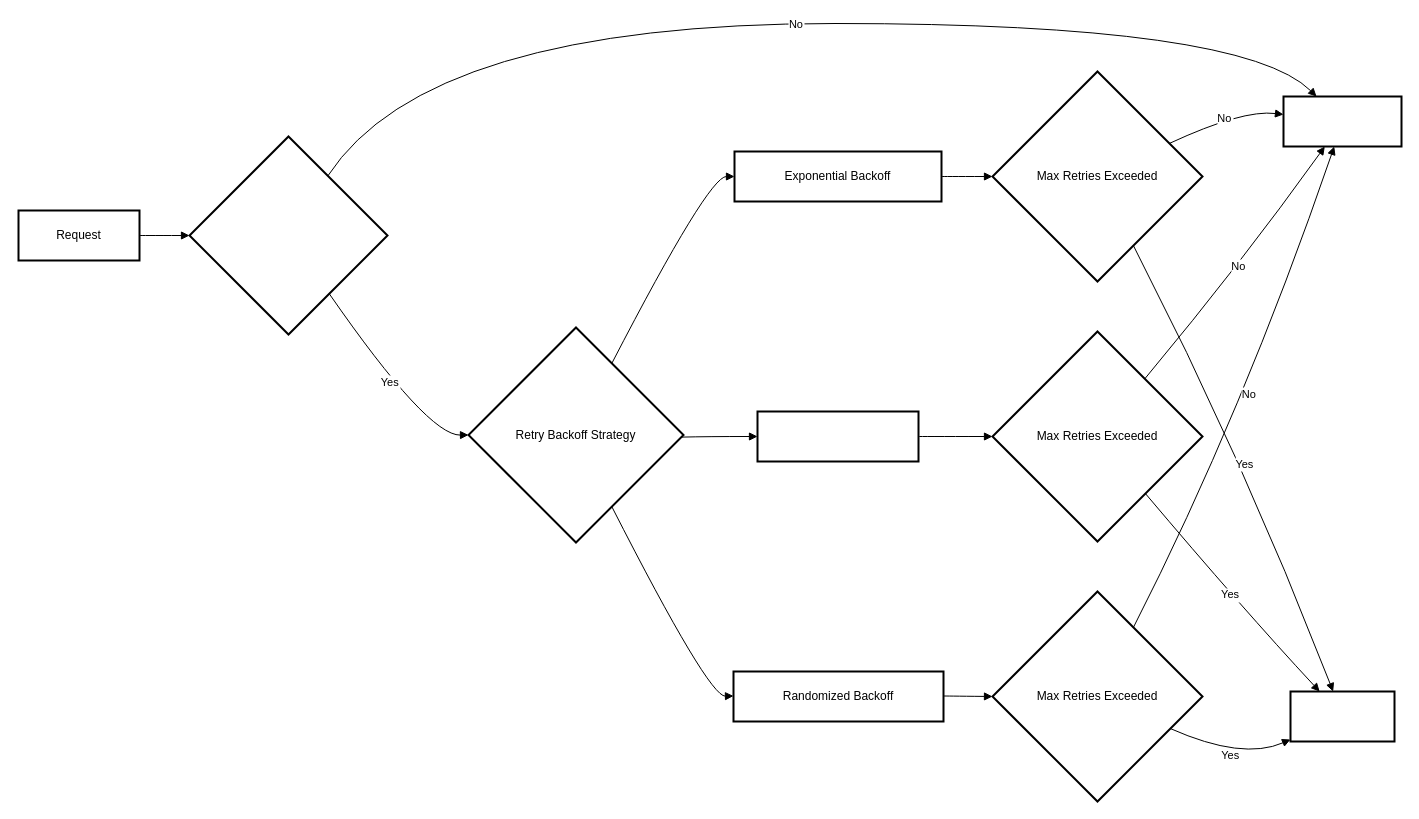
Some shapes in this 1419 by 819 pixel diagram are drawn without their labels. The box of each missing label's shape, as (x1, y1, x2, y2) in pixels:
Abort: (1289, 690, 1395, 742)
Fixed Backoff: (756, 410, 919, 462)
Retry Limit Reached: (188, 135, 388, 335)
Success: (1282, 95, 1402, 147)
